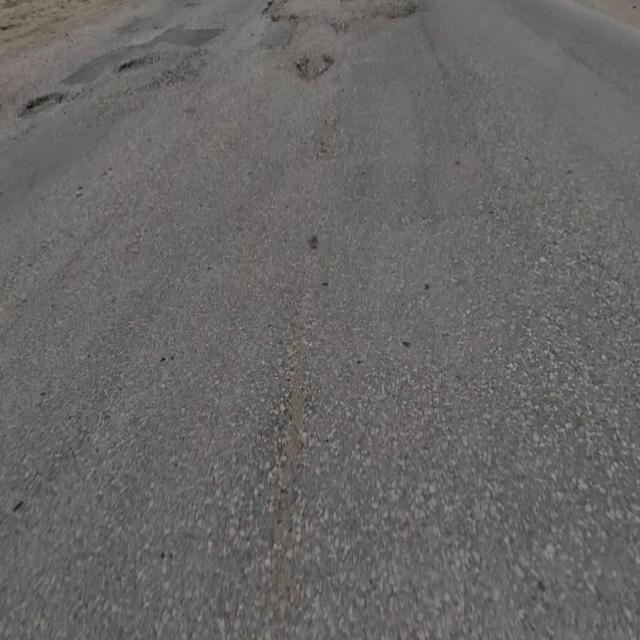Potholes: (19, 92, 66, 122), (294, 54, 338, 83), (370, 0, 418, 22), (261, 0, 297, 27), (116, 56, 160, 75)
